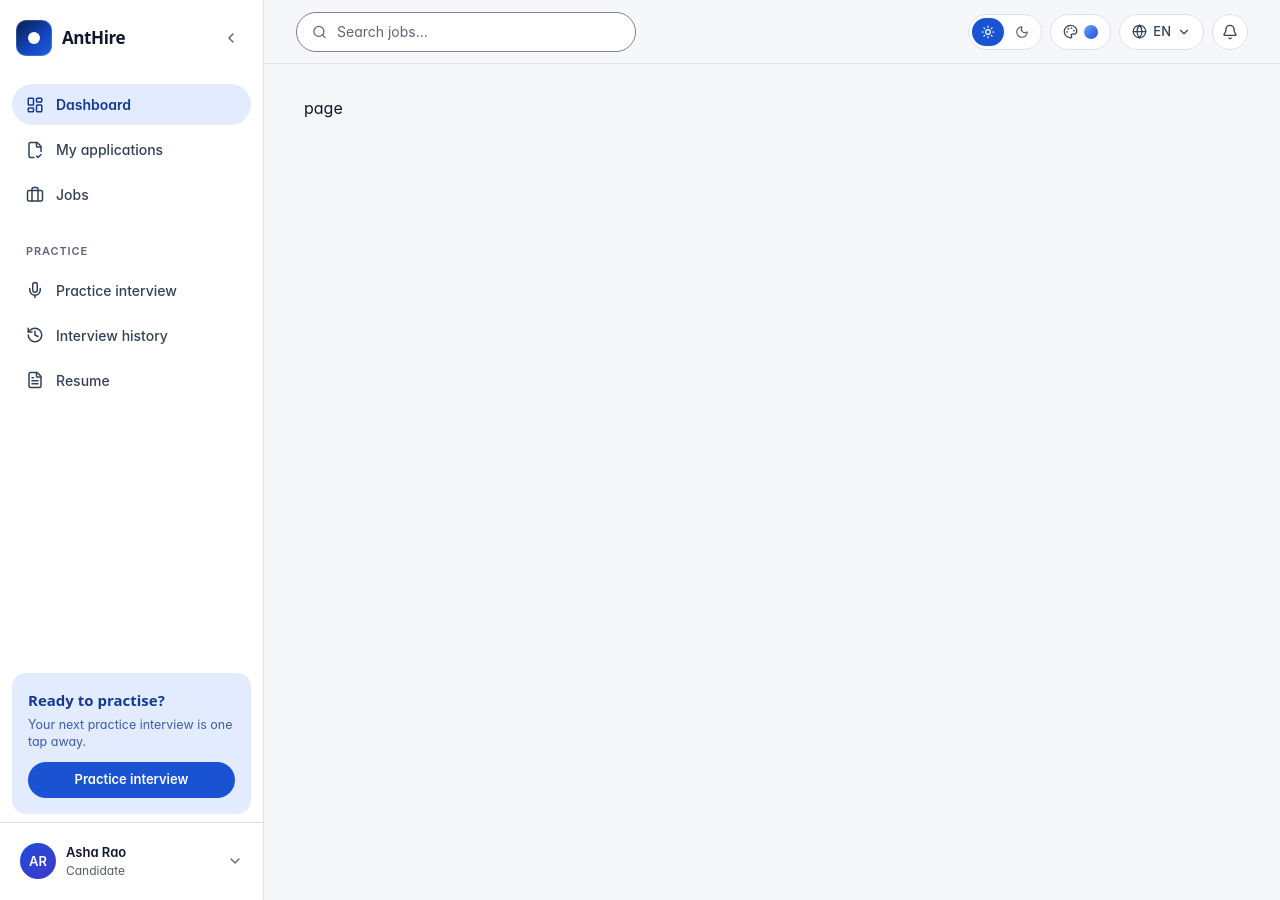
Scenario: AppShell - language switcher scope (QA ANTHIRE-012) › says nothing of the kind to a candidate, whose pages are translated
The image size is (1280, 900).
What coordinates should you click on to do the following:
click the button with aria-label "UI language"
I would click on:
 (1162, 32)
Its box is [1119,14,1204,50].
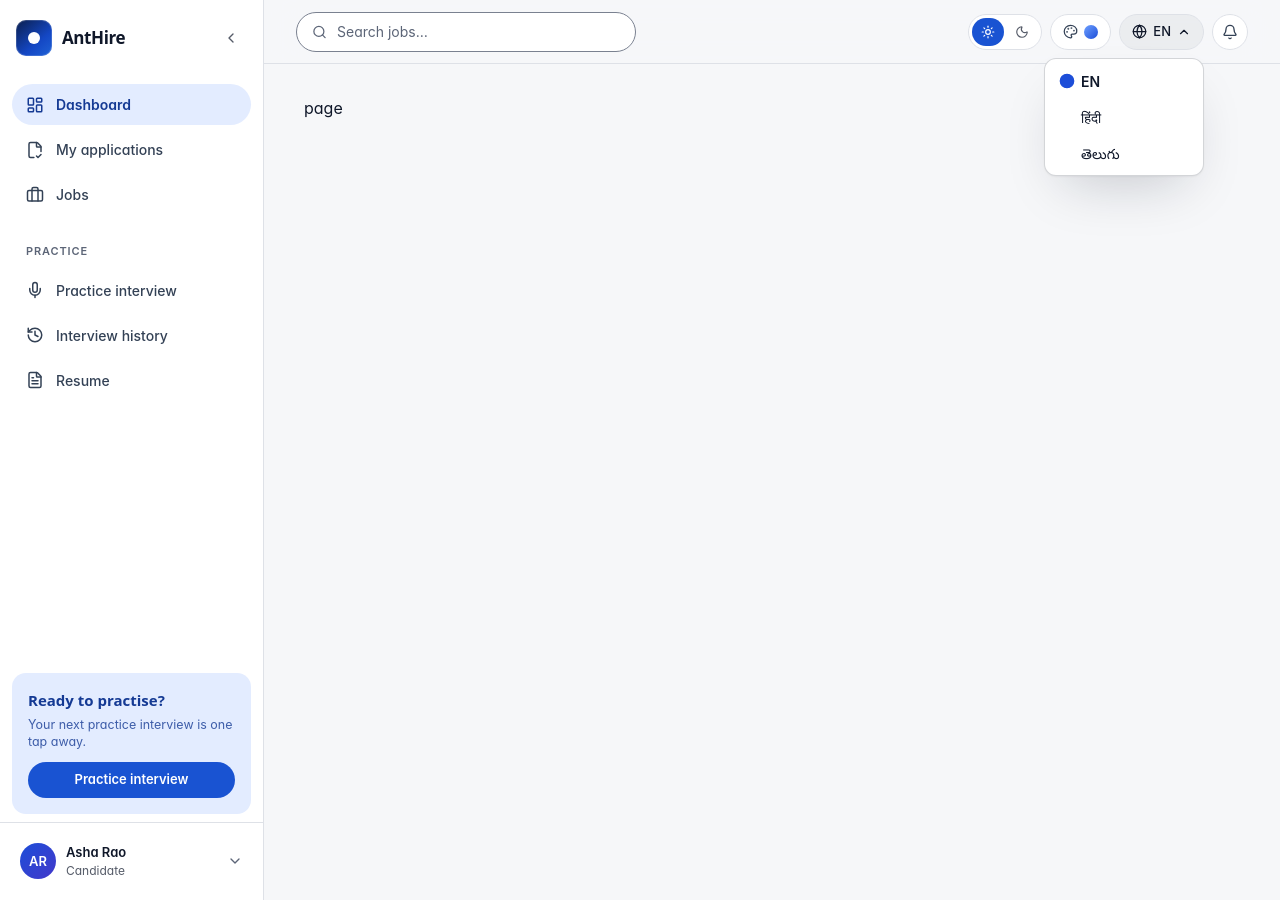
expect the menu item with aria-label "English" is shown: met, box [1059,72,1100,90]
